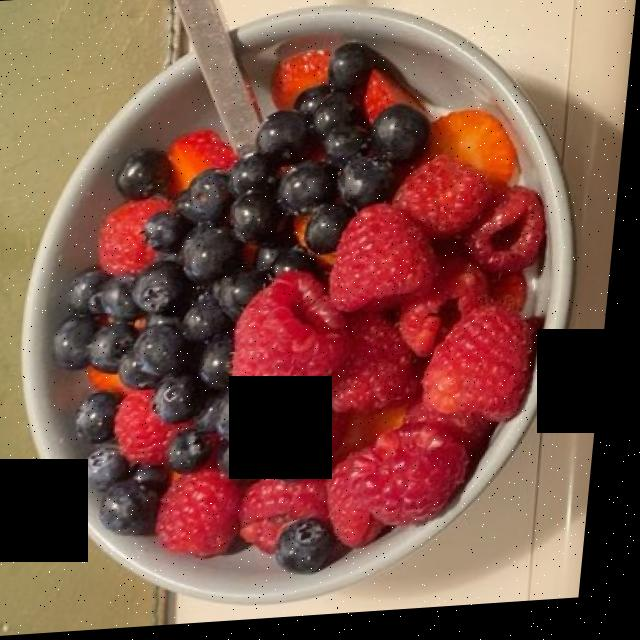raspberries: (105, 176, 538, 568)
strawberries: (170, 39, 524, 193)
